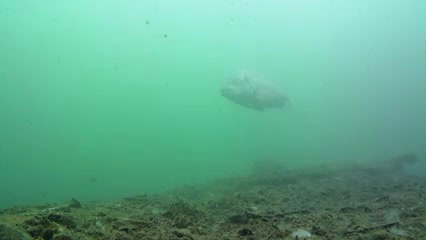smallfish: (223, 59, 295, 112)
